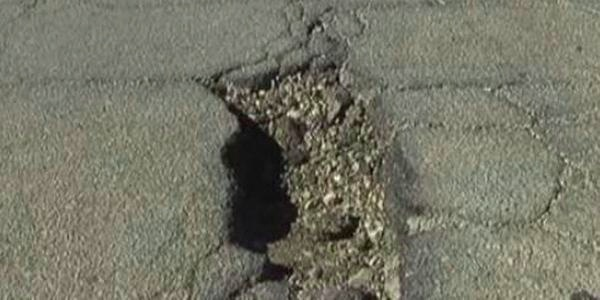pothole: (189, 47, 408, 298)
